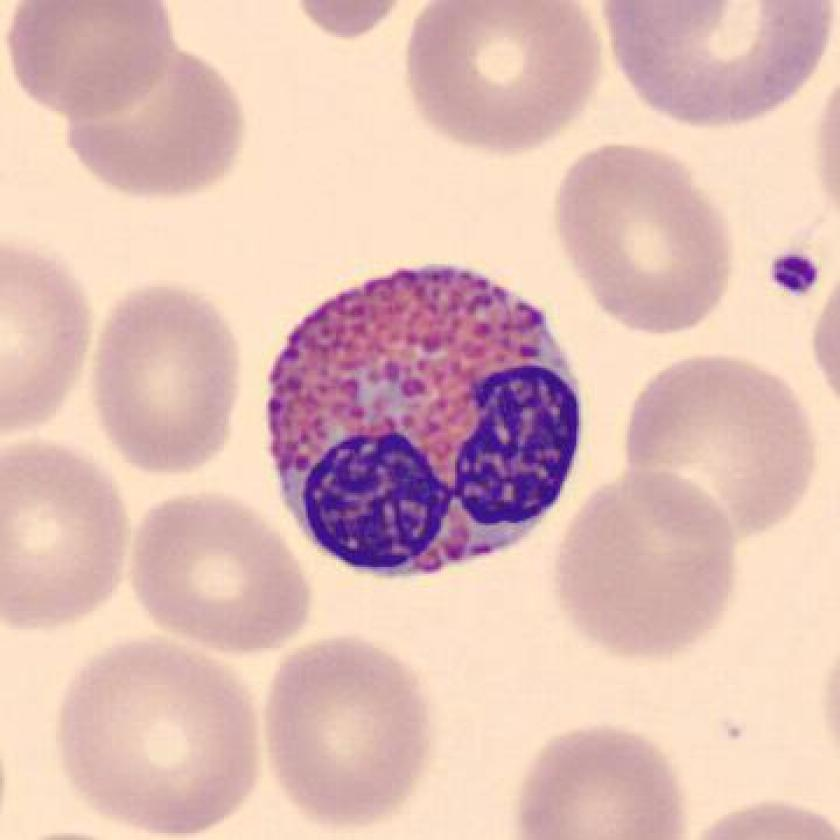eosinophil: (255, 249, 594, 596)
